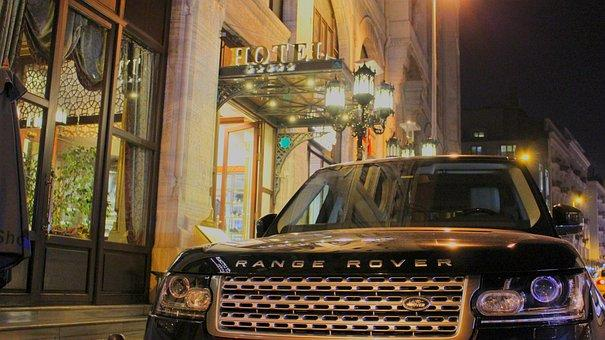range rover: (229, 248, 467, 274)
